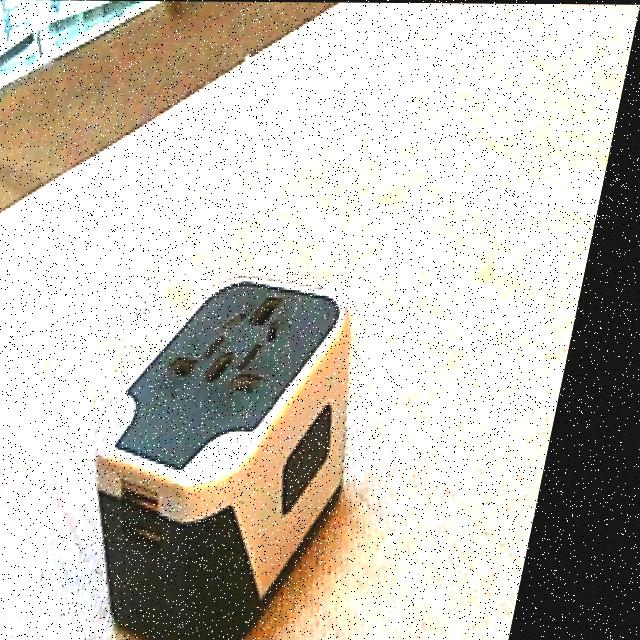adapter: (78, 269, 399, 640)
